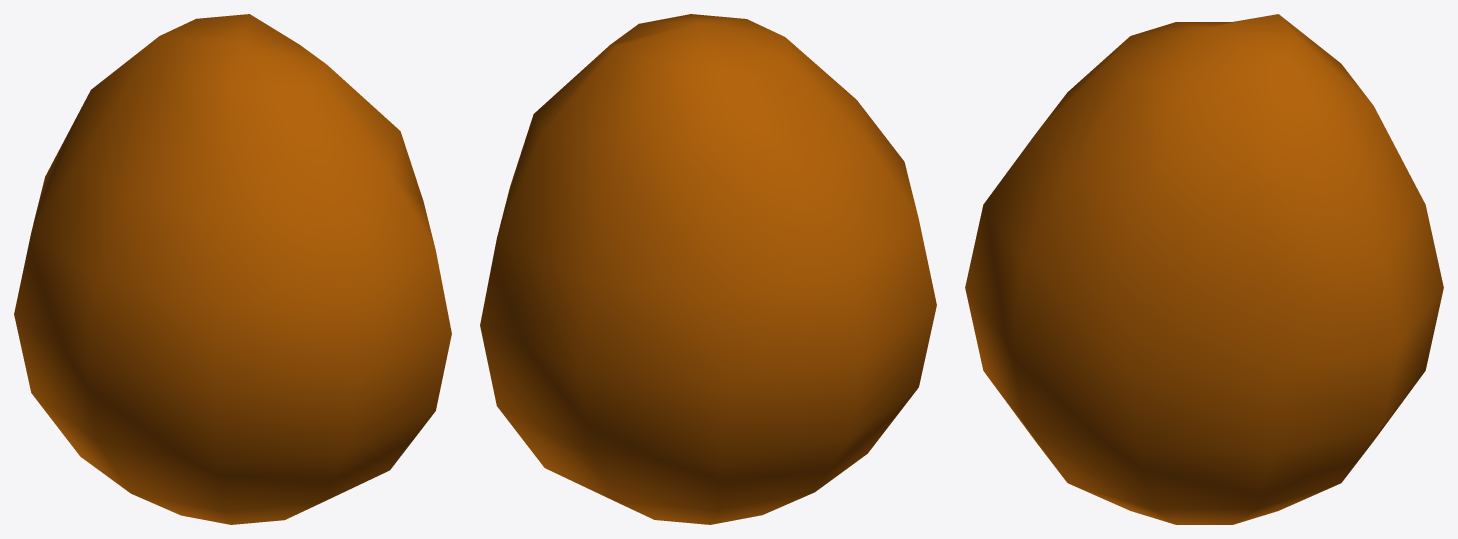
File: Radish Seed.fbx
3 renders of one model, left to right at view 1: azimuth 30°, elevation 25°; view 2: azimuth 150°, elevation 25°; view 3: azimuth 270°, elevation 25°, orthographic. The views are drawn at different scales.
Visible parts, largest first — view 1: Sphere.003; view 2: Sphere.003; view 3: Sphere.003.
Part boxes in pixels (x1=…): Sphere.003: x1=14, y1=14, x2=451, y2=524; Sphere.003: x1=480, y1=14, x2=936, y2=524; Sphere.003: x1=965, y1=14, x2=1443, y2=524.
Bounding box in the file's own units: 112 × 139 × 126.
